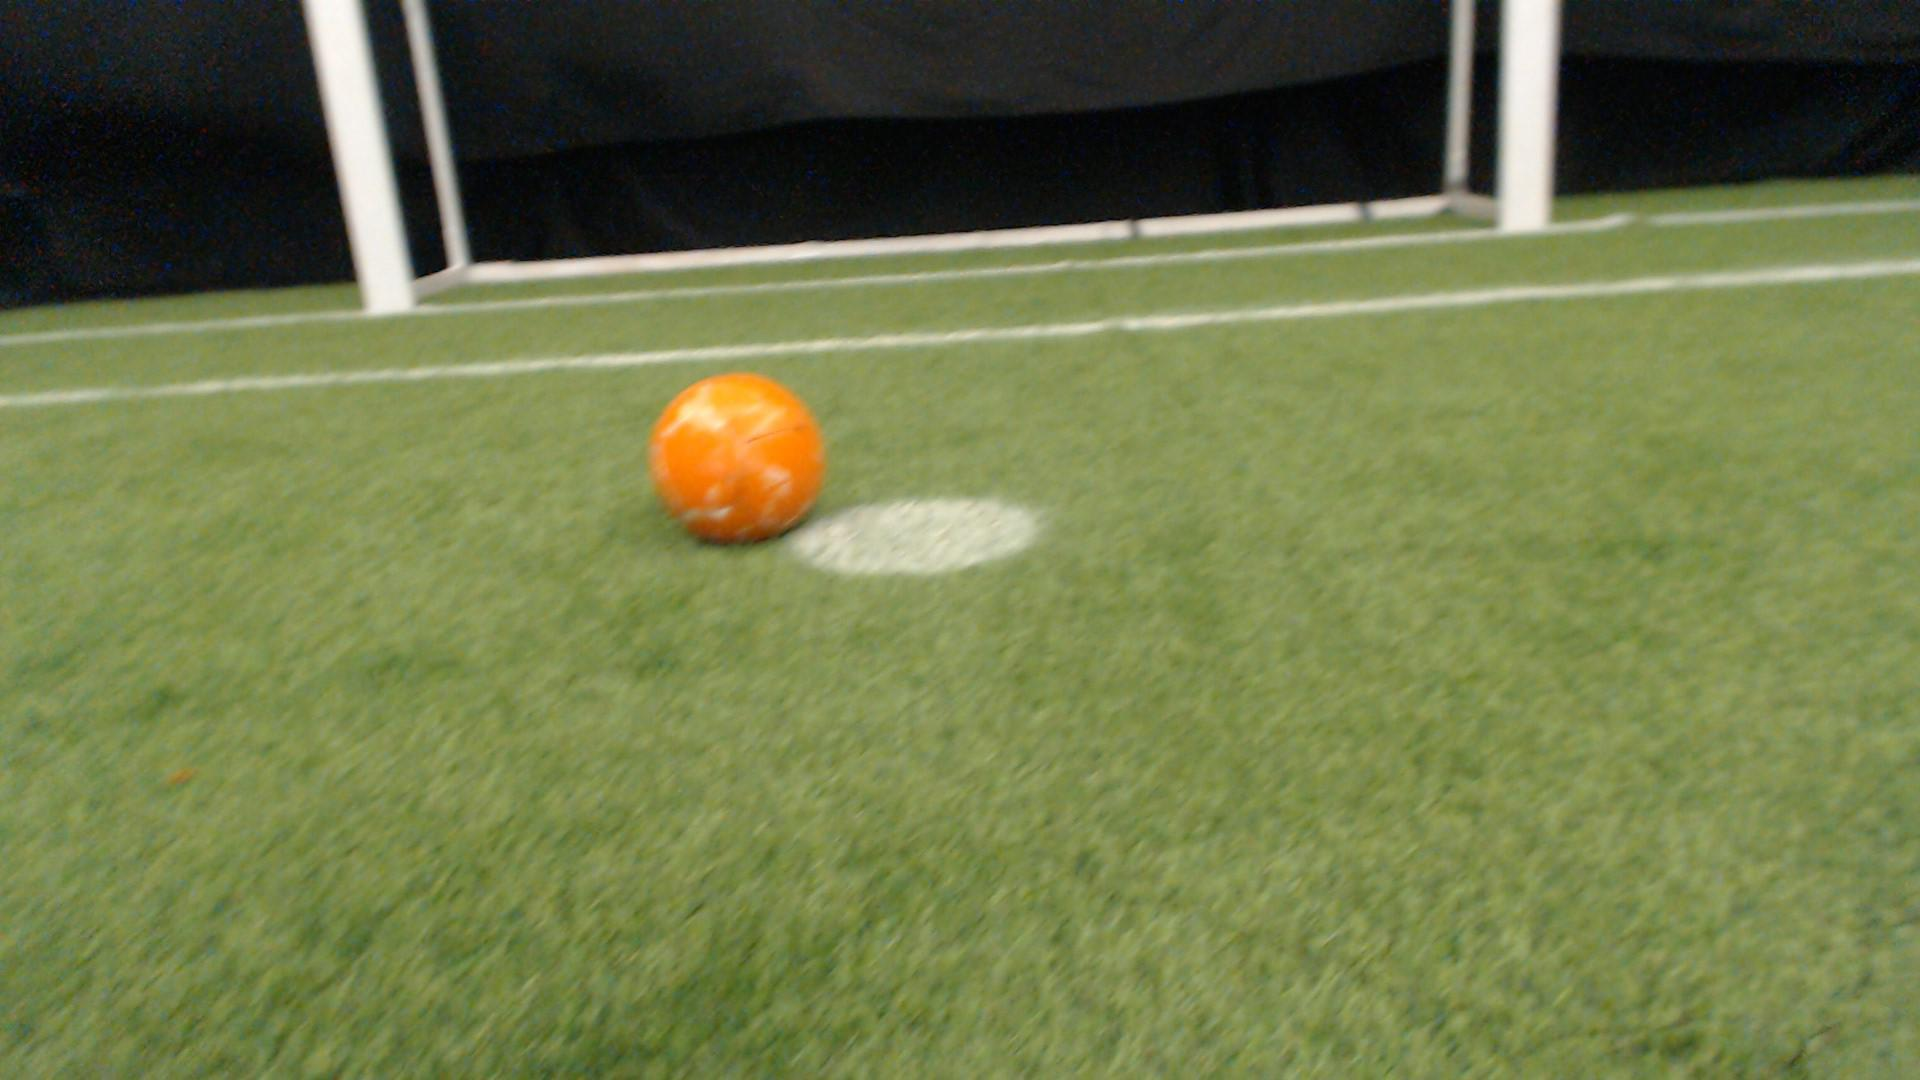bola: (625, 363, 840, 546)
